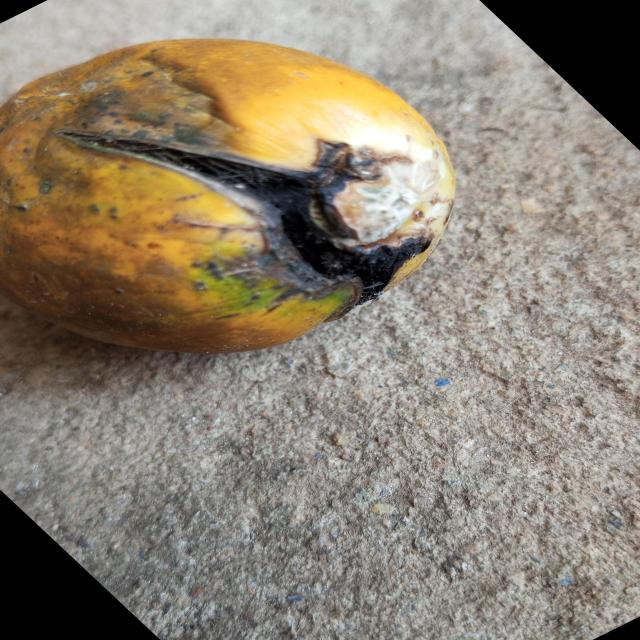damaged: (0, 39, 455, 353)
